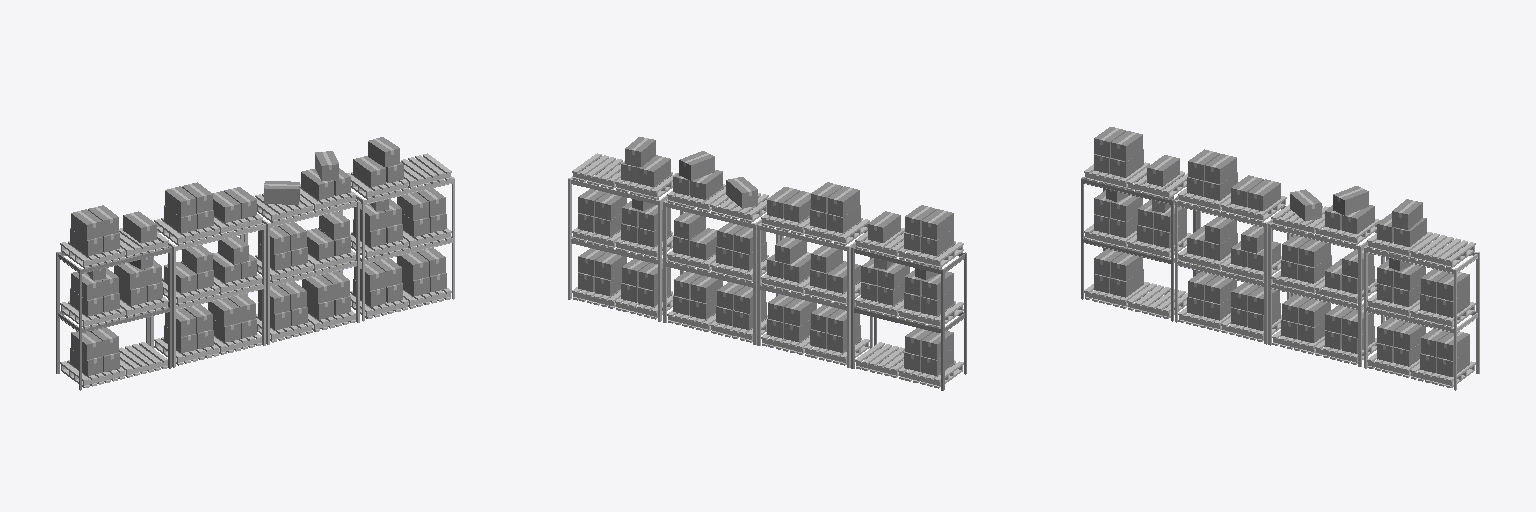
The model's file is rack.obj.
The picture shows the model from 3 angles: view 1: azimuth 30°, elevation 25°; view 2: azimuth 150°, elevation 25°; view 3: azimuth 330°, elevation 25°; orthographic projection.
Visible parts, largest first — view 1: Cube.019_Cube.004; view 2: Cube.019_Cube.004; view 3: Cube.019_Cube.004.
Boxes of the visible parts, box(x1,y1,x2,y2) form: Cube.019_Cube.004: box(56, 137, 454, 390); Cube.019_Cube.004: box(568, 137, 966, 390); Cube.019_Cube.004: box(1081, 127, 1479, 390).
Size of the model in its own units: 14.06 by 5.75 by 1.6.